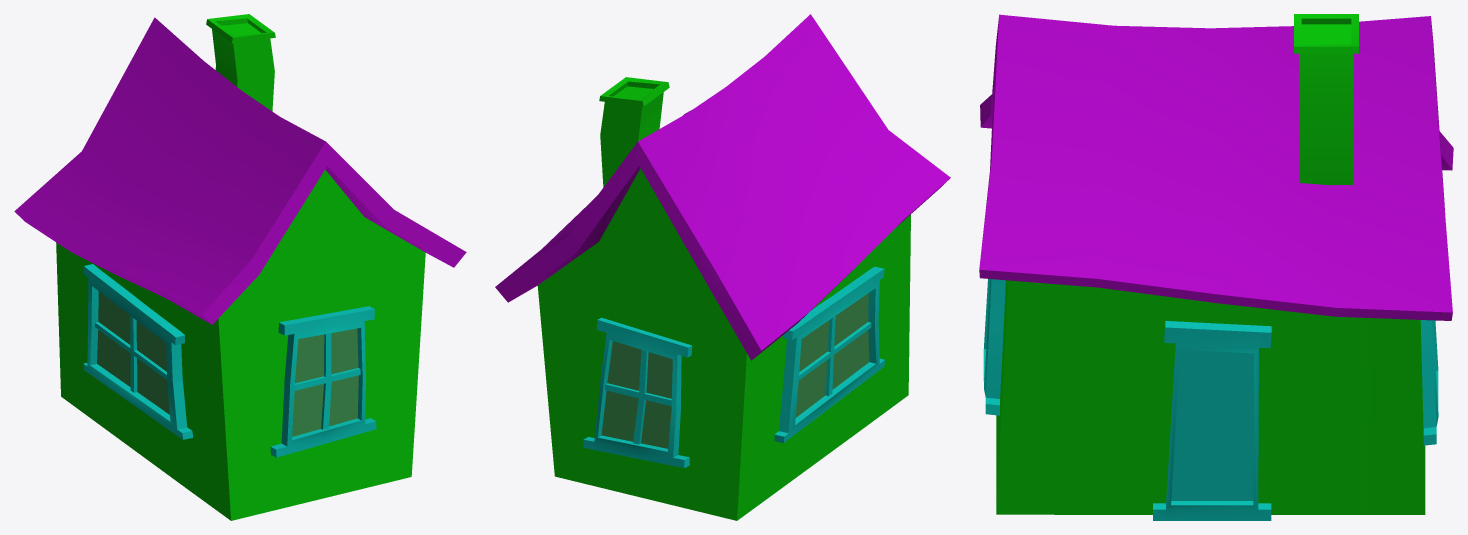
Rendered from cottage2.obj.
The picture shows the model from 3 angles, left to right: view 1: azimuth 30°, elevation 25°; view 2: azimuth 150°, elevation 25°; view 3: azimuth 270°, elevation 25°; orthographic projection. The views are drawn at different scales.
Parts seen in each view (by area): view 1: Cube; view 2: Cube; view 3: Cube.
Boxes of the visible parts, x1,y1,x2,y2 form: Cube: [14, 14, 466, 520]; Cube: [495, 14, 950, 520]; Cube: [979, 14, 1453, 520].
Size of the model in its own units: 3.83 by 5.09 by 4.72.
